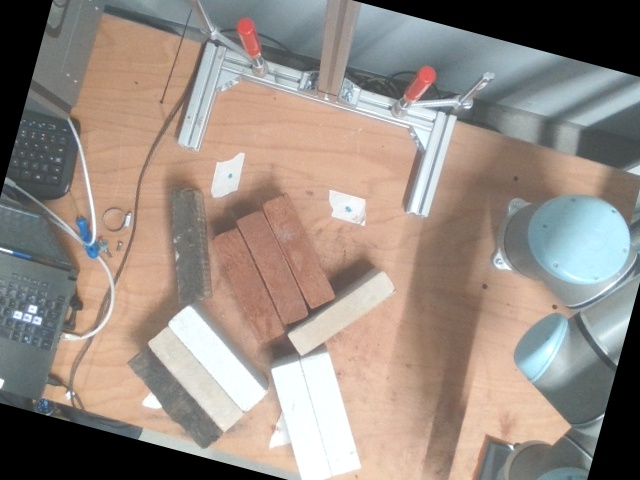brick-side: (167, 306, 264, 411), (147, 328, 241, 431), (128, 348, 220, 447), (261, 195, 334, 309), (290, 275, 393, 355), (237, 212, 307, 324), (214, 229, 282, 341), (303, 355, 359, 475), (272, 363, 328, 479), (170, 187, 197, 298)
